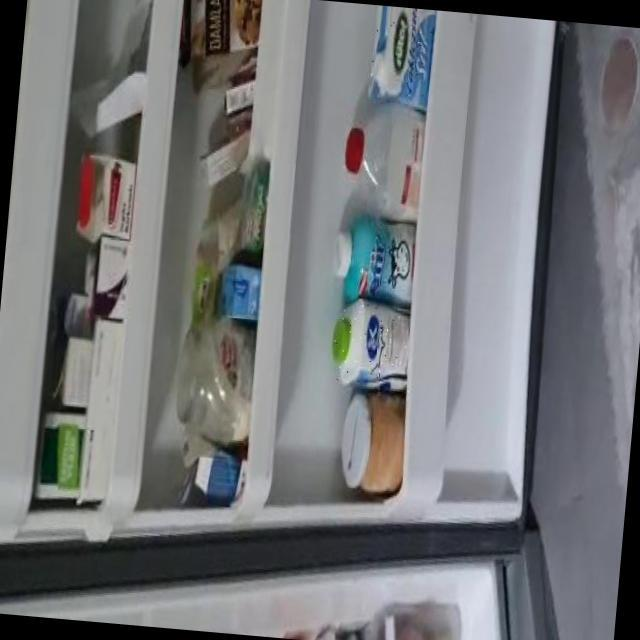milk: (330, 299, 411, 387), (370, 4, 434, 97)
